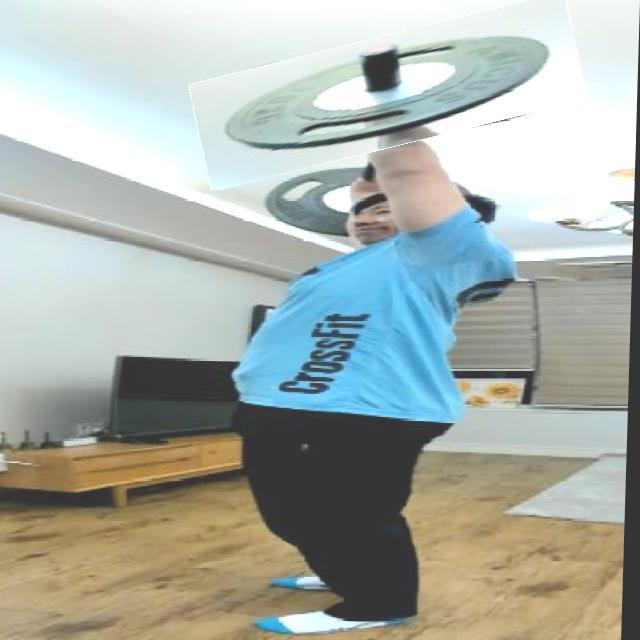barbell: (192, 15, 588, 169)
